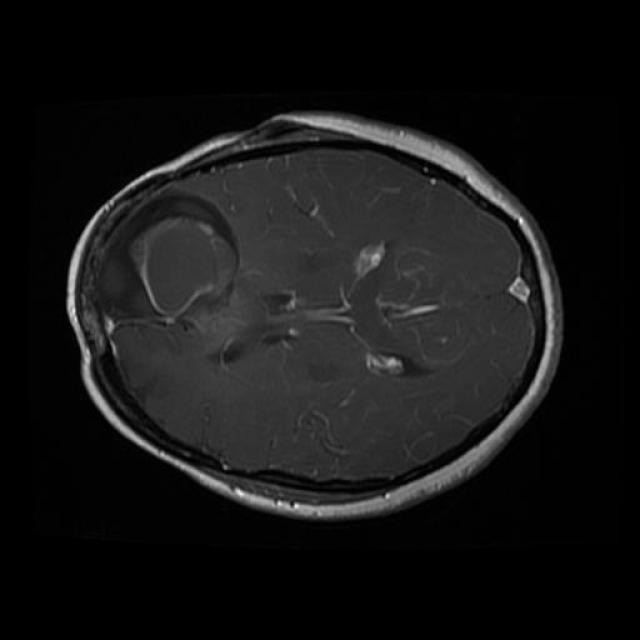Glioma: (98, 196, 238, 318)
